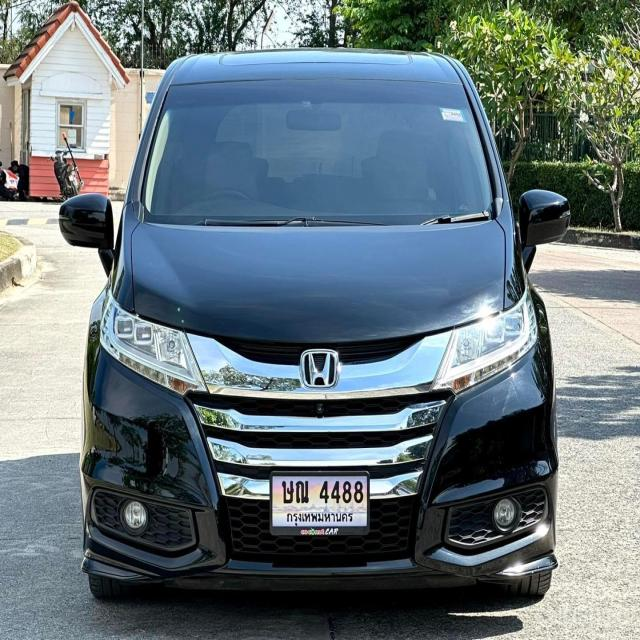license_plate: (269, 467, 373, 538)
